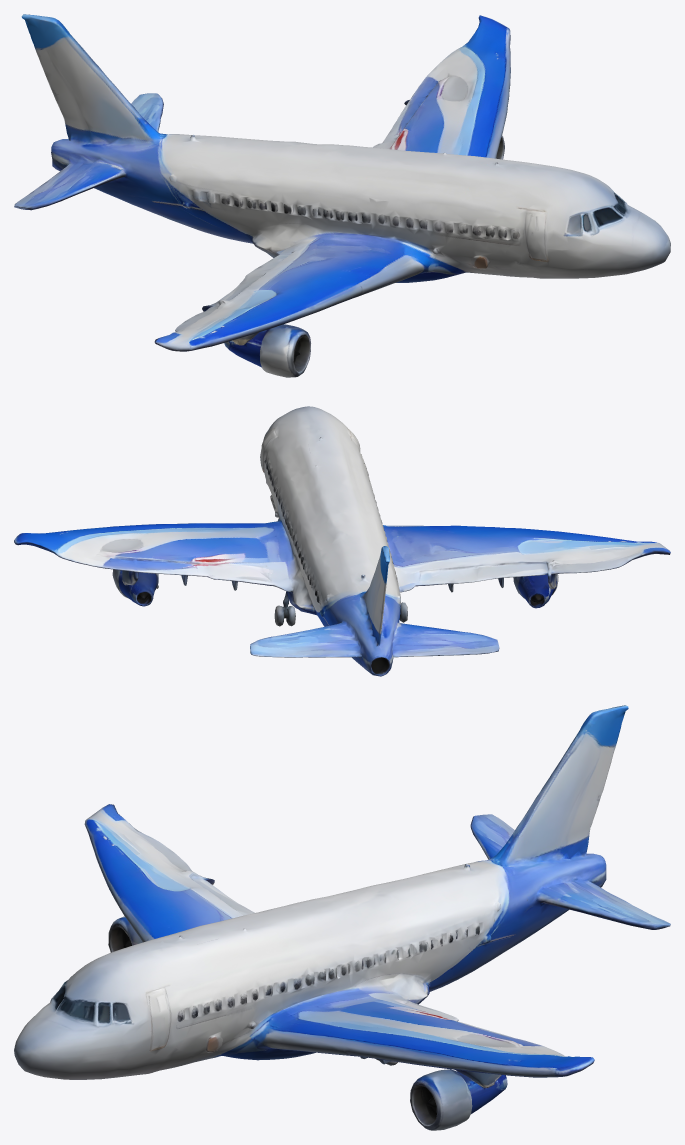
The model's file is airplane 3d model.glb.
3 views of the same model, one above another, from view 1: azimuth 30°, elevation 25°; view 2: azimuth 150°, elevation 25°; view 3: azimuth 270°, elevation 25° (orthographic). The views are drawn at different scales.
Visible parts, largest first — view 1: tripo_node_021490bc-7548-4b2e-a090-df9414615e0c; view 2: tripo_node_021490bc-7548-4b2e-a090-df9414615e0c; view 3: tripo_node_021490bc-7548-4b2e-a090-df9414615e0c.
Part boxes in pixels (x1,y1,x2,y2): tripo_node_021490bc-7548-4b2e-a090-df9414615e0c: (14,14,670,377); tripo_node_021490bc-7548-4b2e-a090-df9414615e0c: (14,406,670,676); tripo_node_021490bc-7548-4b2e-a090-df9414615e0c: (14,705,670,1130).
Bounding box in the file's own units: 1 × 0.3695 × 0.9127.
1 material, 1 textured.
